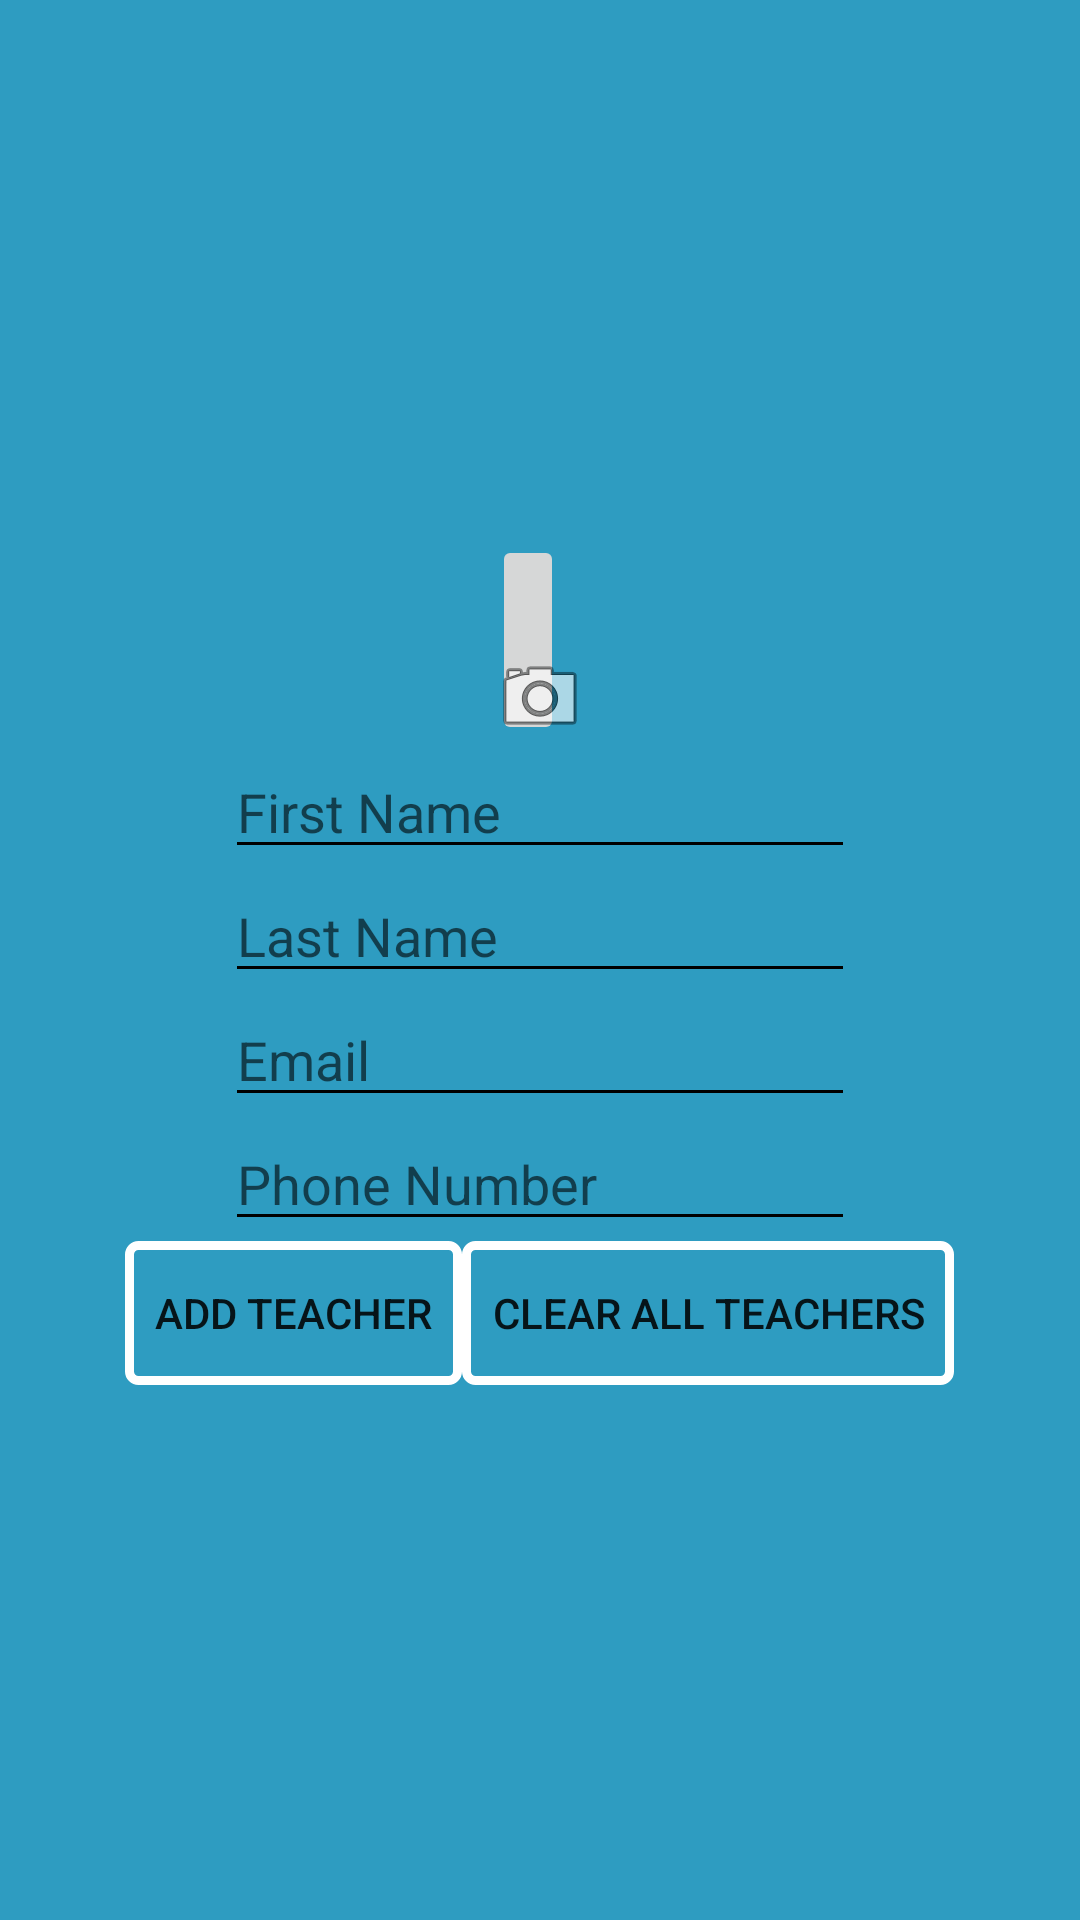

Icons on this 1080x1920 Android screen, each with the point to tap as point (x, y):
camera: point (540, 688)
